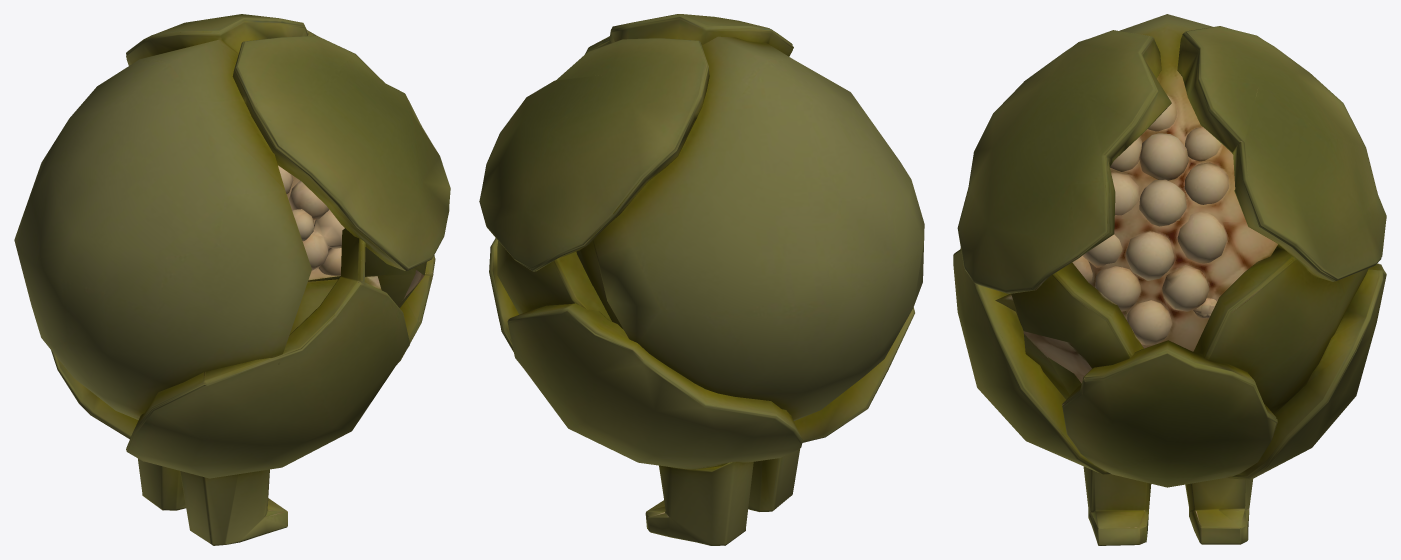
File: polypal_seed.glb
3 renders of one model, left to right at view 1: azimuth 30°, elevation 25°; view 2: azimuth 150°, elevation 25°; view 3: azimuth 270°, elevation 25°, orthographic. The views are drawn at different scales.
Visible parts, largest first — view 1: tripo_node_f0a71b17-7f98-4e89-9bfb-8a0a37074884; view 2: tripo_node_f0a71b17-7f98-4e89-9bfb-8a0a37074884; view 3: tripo_node_f0a71b17-7f98-4e89-9bfb-8a0a37074884.
Part boxes in pixels (<box>): tripo_node_f0a71b17-7f98-4e89-9bfb-8a0a37074884: <box>14,14,450,545</box>; tripo_node_f0a71b17-7f98-4e89-9bfb-8a0a37074884: <box>479,14,924,545</box>; tripo_node_f0a71b17-7f98-4e89-9bfb-8a0a37074884: <box>953,14,1386,545</box>.
Size of the model in its own units: 0.8457 by 0.998 by 0.7832.
Materials: 1 (1 with a texture image).
